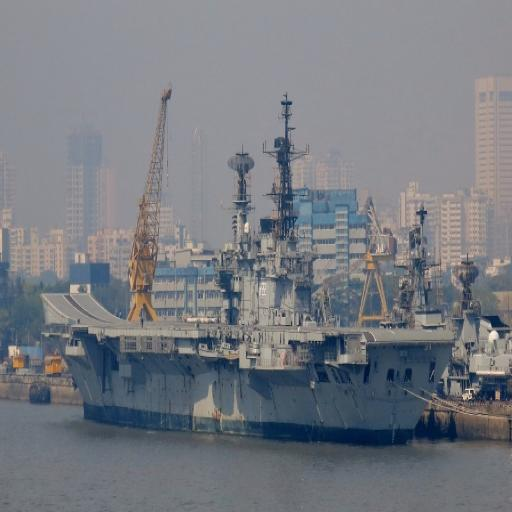Portanaves: (40, 156, 459, 452)
